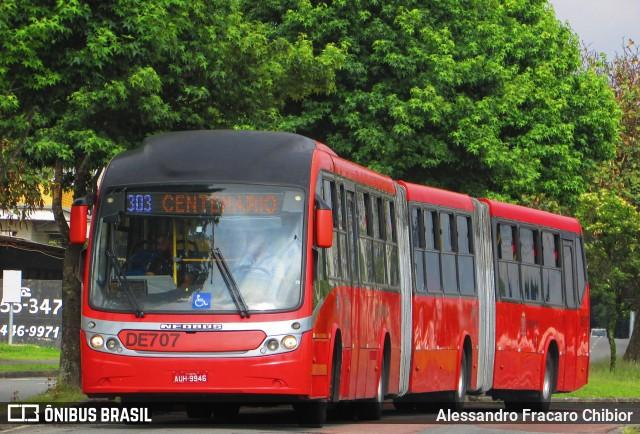CENTENARIO: (159, 190, 282, 217)
